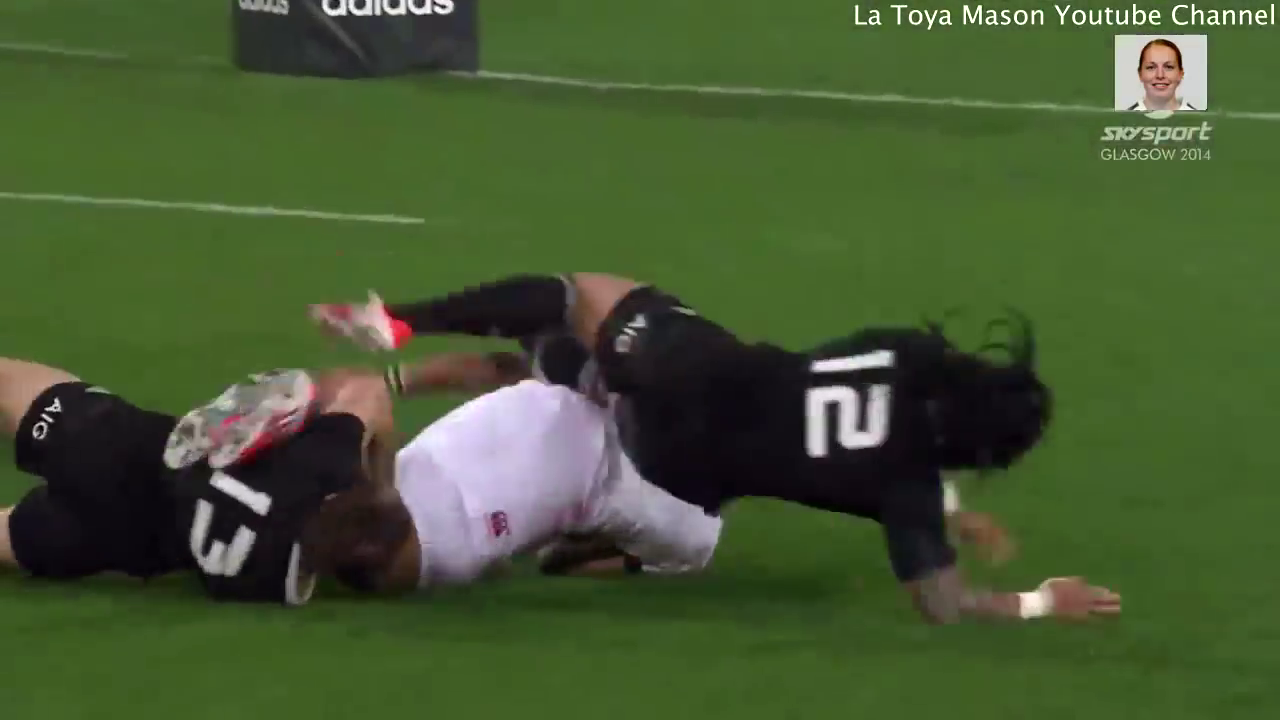player: (281, 258, 1156, 633), (1, 342, 425, 610), (307, 359, 737, 599)
